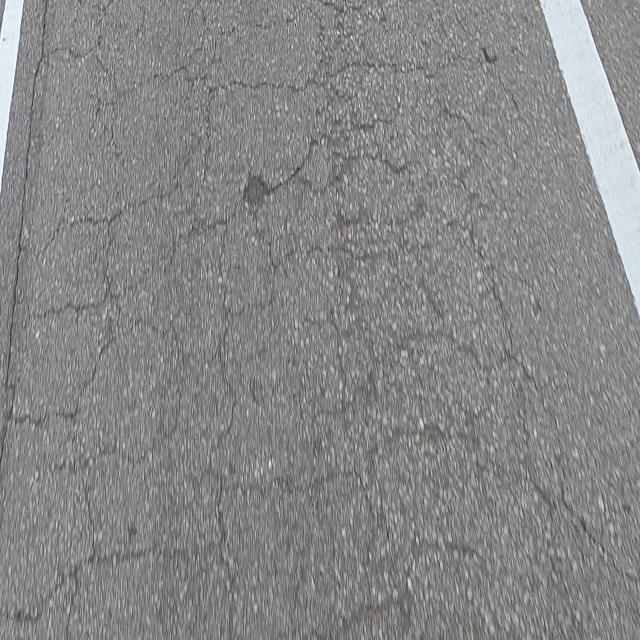Retak-Buaya: (0, 0, 577, 640)
